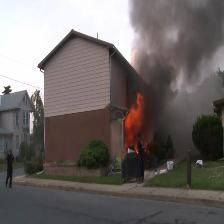fire: (110, 86, 167, 161)
smoke: (113, 0, 224, 106)
